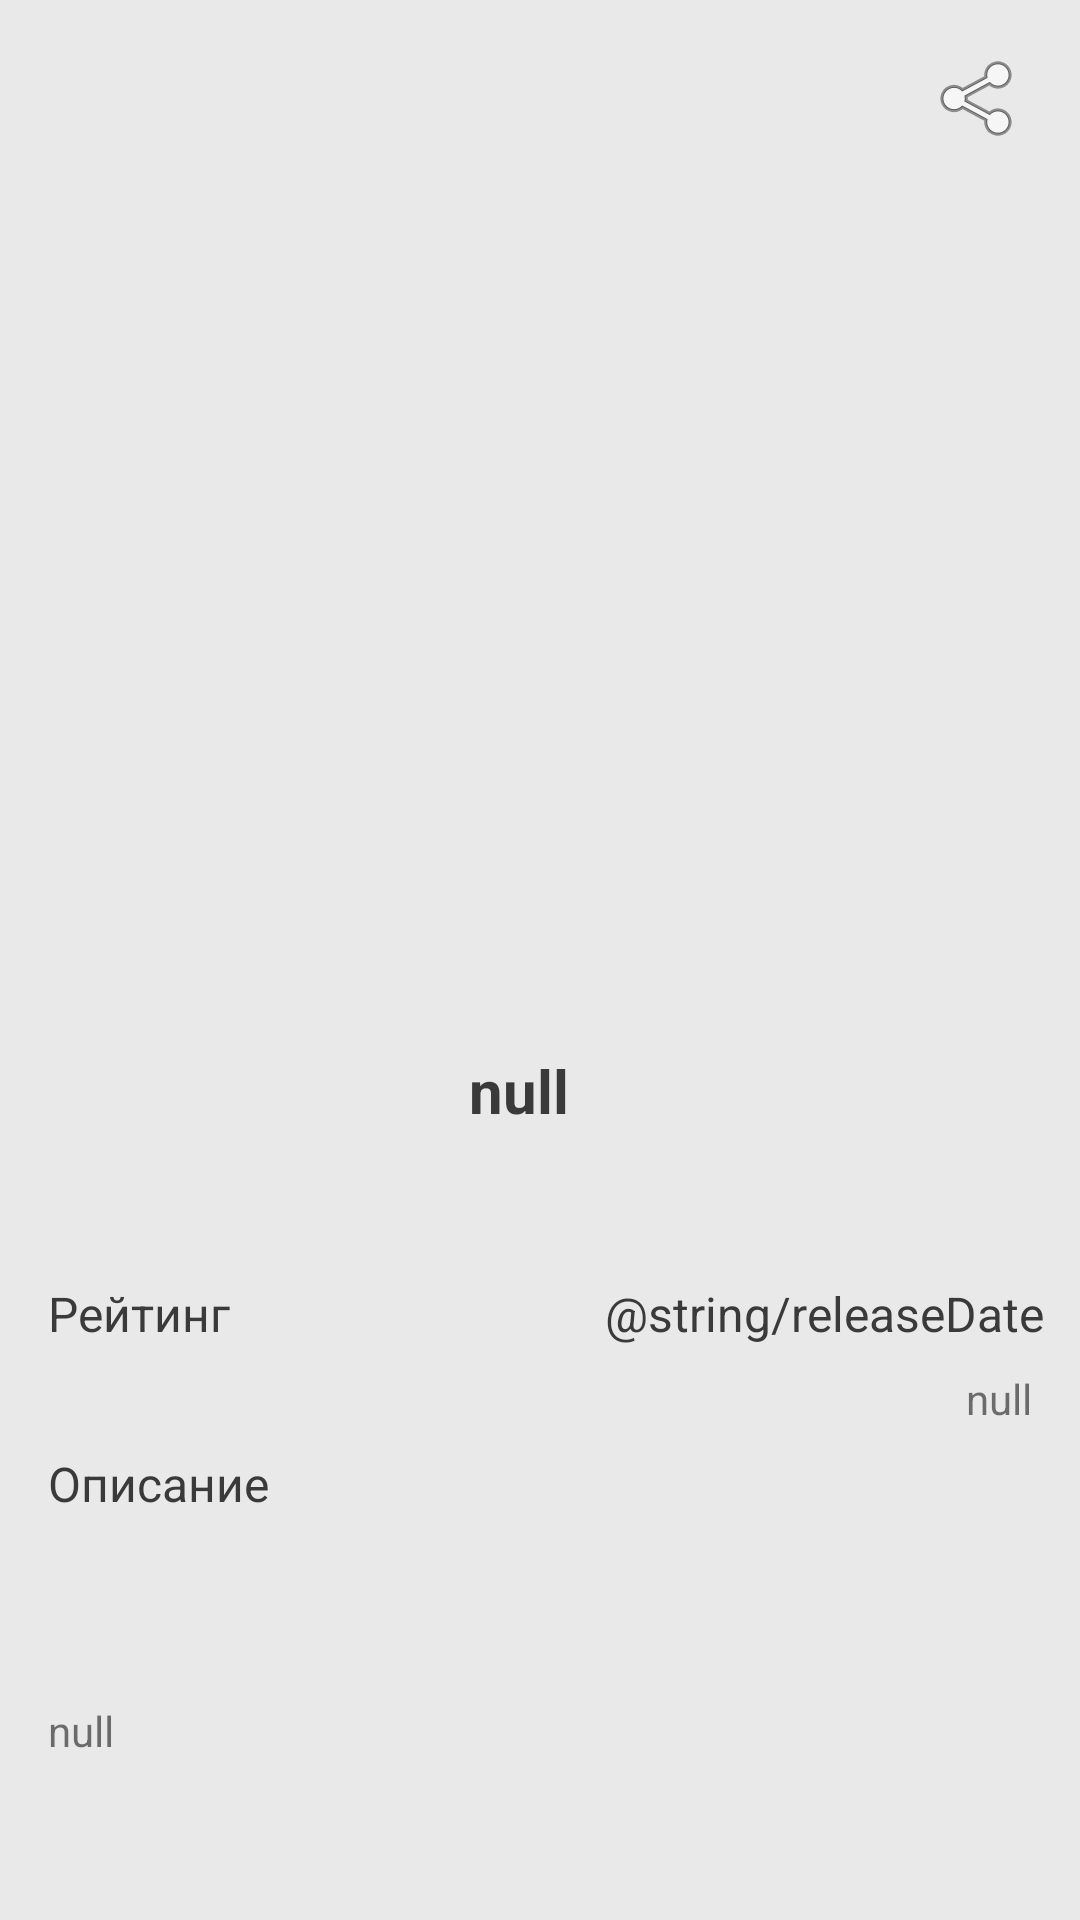

Icons on this 1080×1920 Android screen, each with its box as (x1, y1, x2, y2):
share: (940, 61, 1012, 136)
